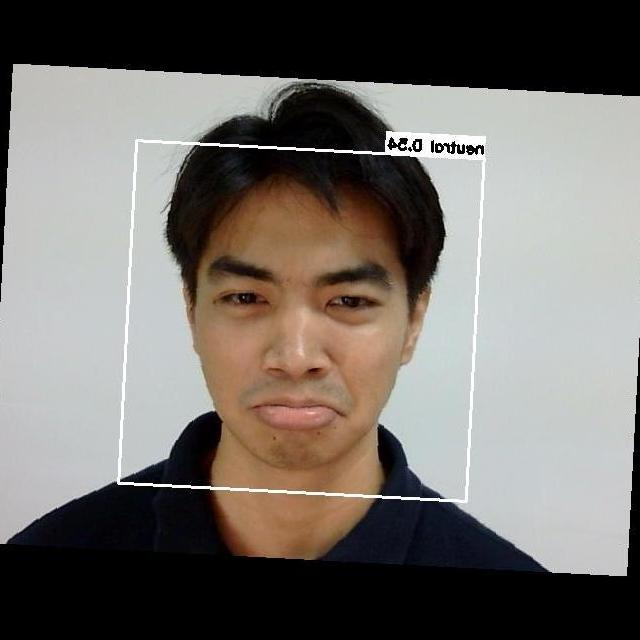Sad: (186, 235, 419, 458)
